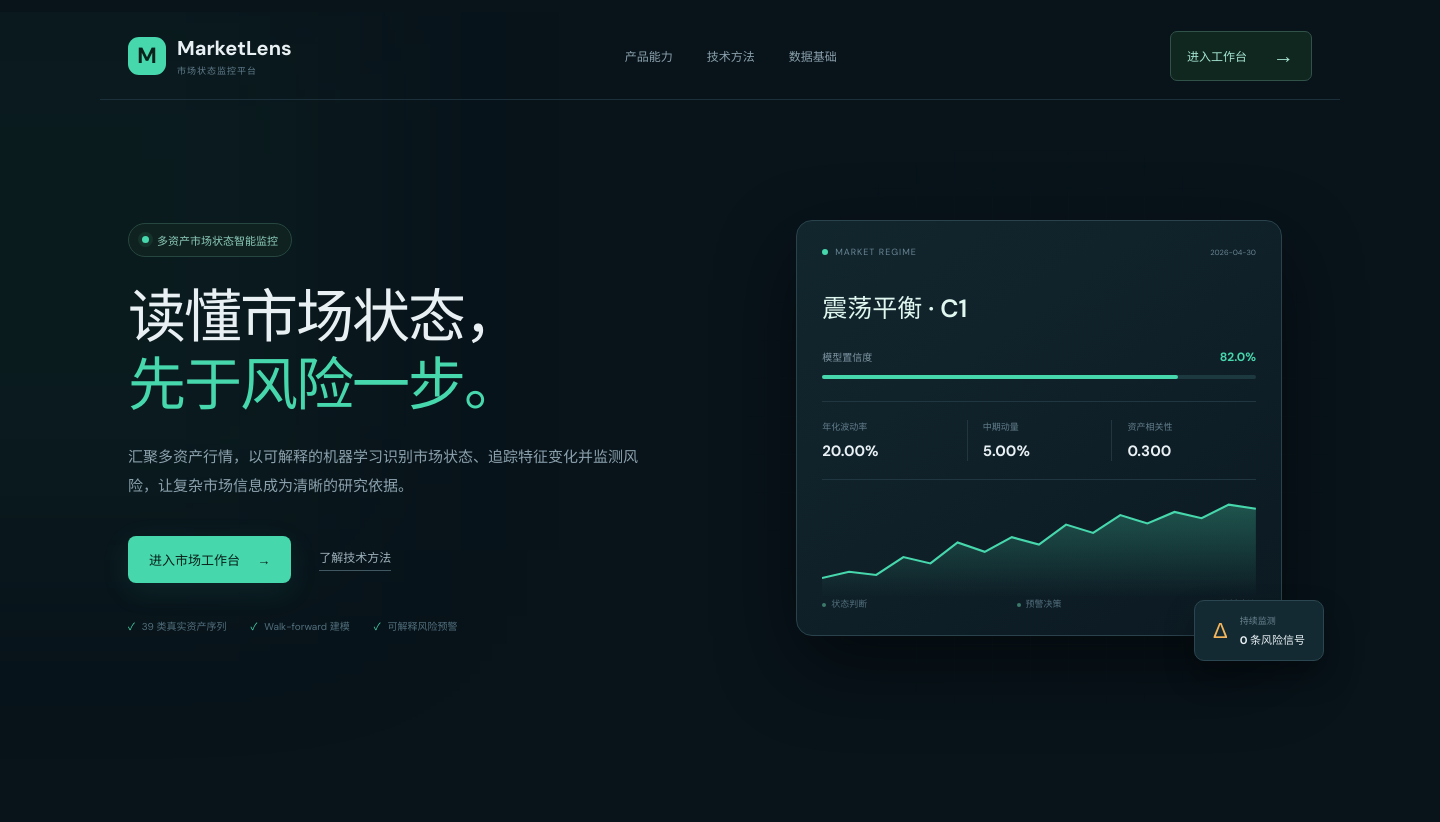
Test: App › loads a small home summary and preserves dashboard navigation
expect the heading "读懂市场状态，先于风险一步。" is shown: met, box x1=128 y1=279 x2=520 y2=423
expect the text "震荡平衡 · C1" is shown: met, box x1=822 y1=292 x2=967 y2=325
Click the button "进入市场工作台 →" at (210, 560), box x1=128 y1=536 x2=291 y2=583
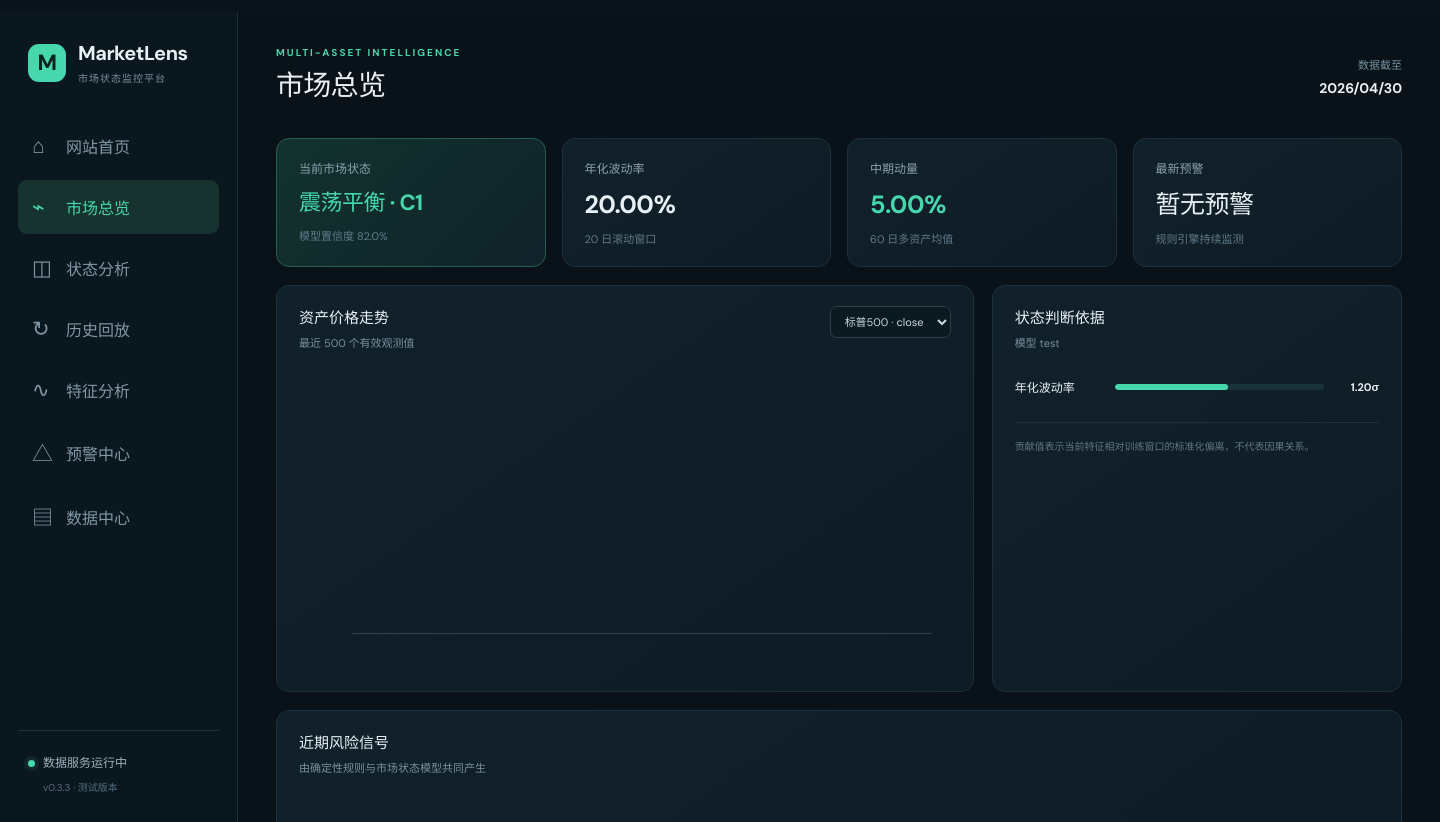
expect the heading "市场总览" is shown: met, box x1=276 y1=67 x2=385 y2=104
Click the button "⌂ 网站首页" at (118, 146), box x1=18 y1=119 x2=219 y2=173
(page scrolled)
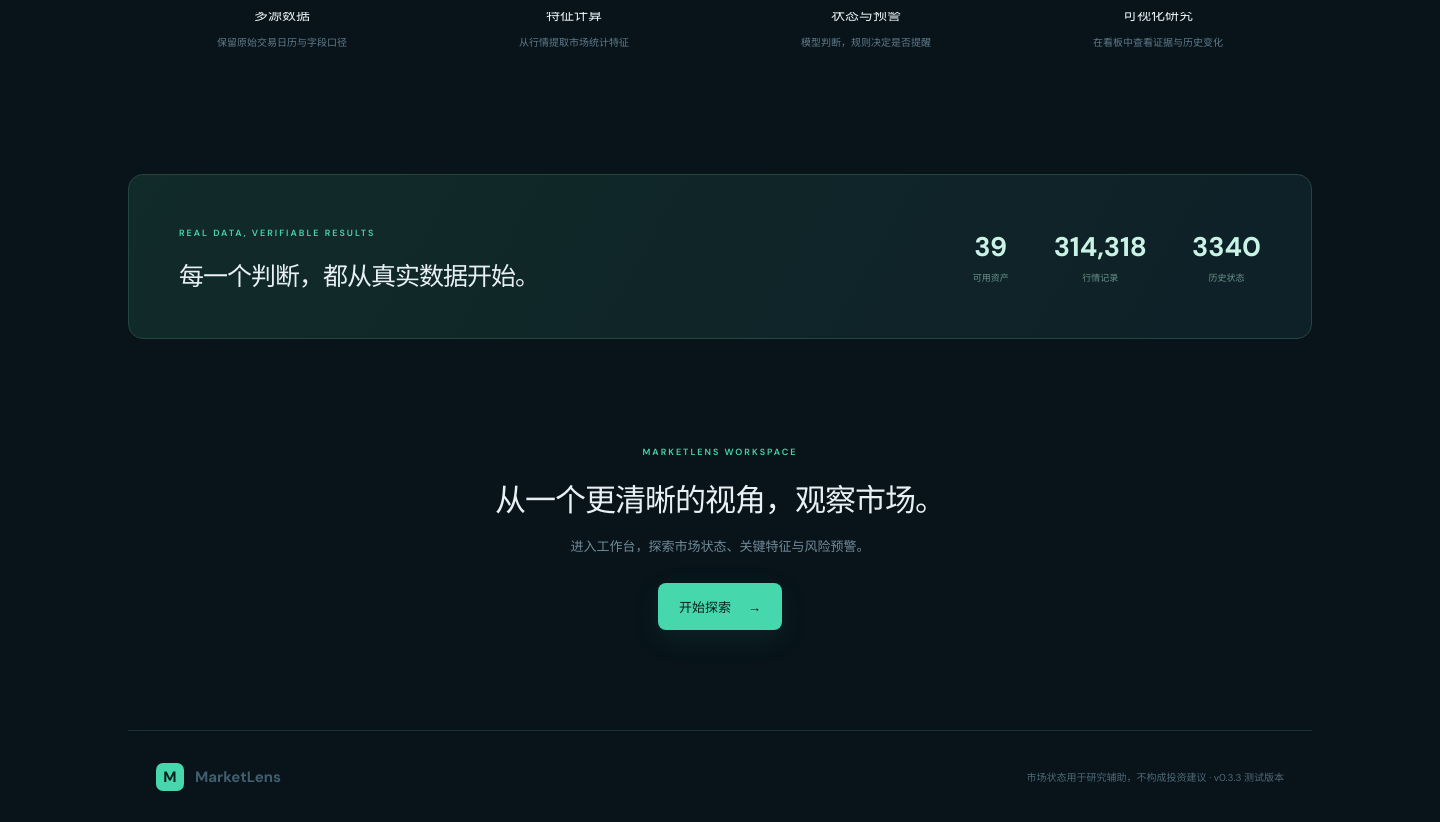
expect the heading "从一个更清晰的视角，观察市场。" is shown: met, box x1=495 y1=480 x2=945 y2=521
